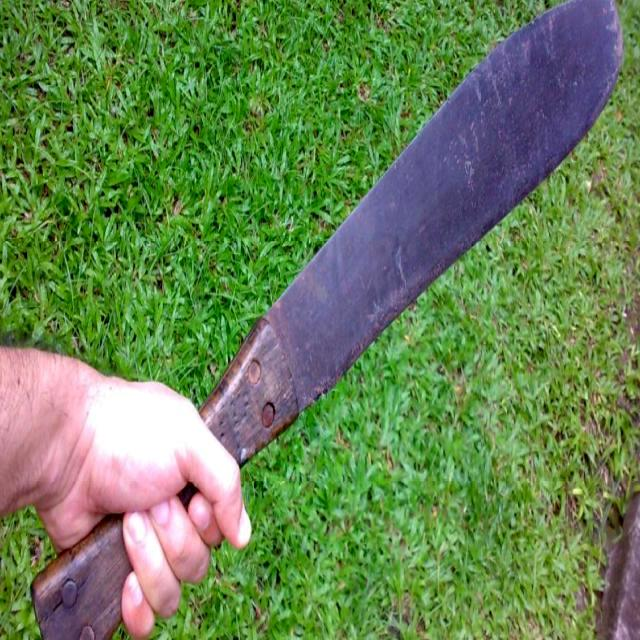long knife: (14, 1, 630, 620)
